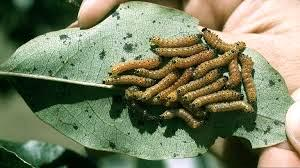Caterpillar: (140, 71, 181, 102), (190, 72, 236, 98), (177, 68, 223, 94), (183, 76, 229, 102), (162, 70, 188, 112), (123, 87, 155, 120), (135, 56, 180, 79), (238, 53, 260, 100), (203, 26, 241, 53), (191, 89, 244, 108), (111, 55, 159, 73), (160, 110, 199, 129), (149, 34, 200, 47), (206, 101, 254, 114), (103, 75, 155, 87), (171, 52, 215, 65)
